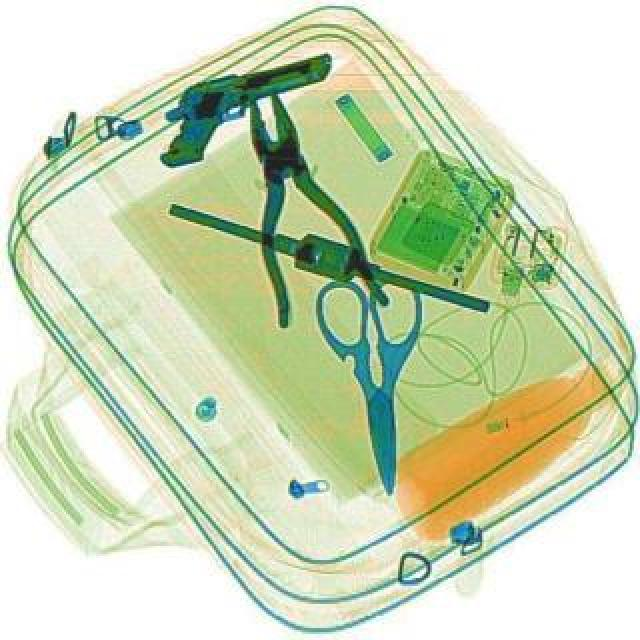gun: (146, 50, 354, 174)
pliers: (316, 274, 446, 502)
wrench: (208, 80, 394, 340)
